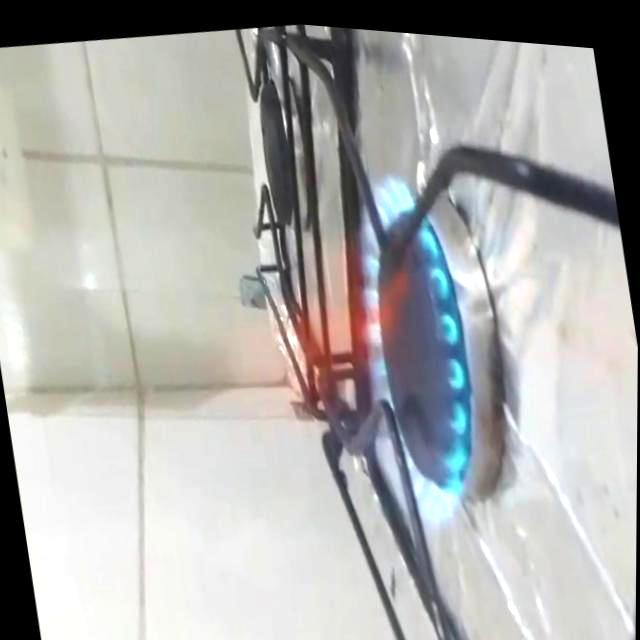fire: (194, 142, 506, 560)
